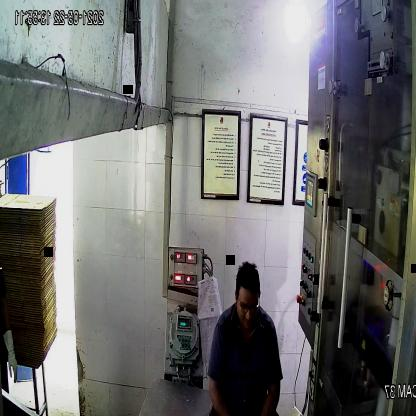goggles: (234, 292, 264, 320)
